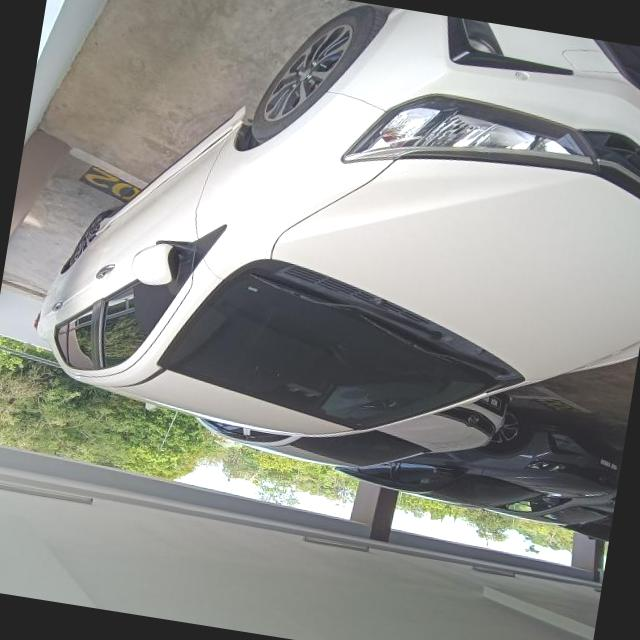PeroduaBezza: (21, 0, 640, 491)
